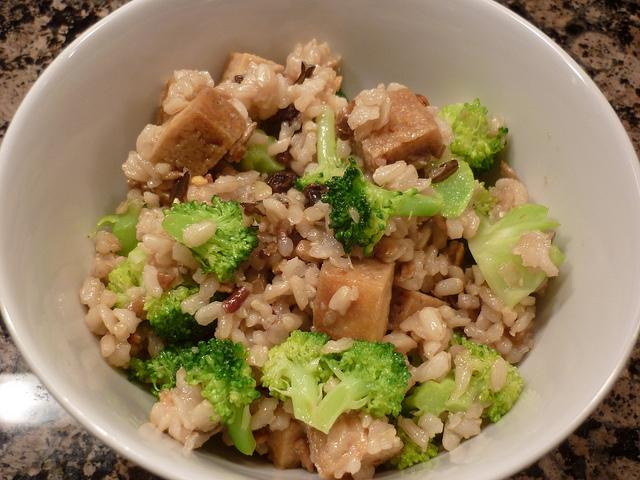broccoli: (260, 330, 412, 434), (322, 159, 445, 255), (468, 203, 566, 310), (182, 338, 262, 455), (162, 194, 260, 283), (402, 342, 502, 418), (142, 280, 219, 350), (438, 97, 502, 175), (294, 108, 351, 192), (128, 344, 188, 402), (429, 158, 475, 218), (106, 246, 149, 309), (88, 206, 142, 256), (230, 136, 286, 177)
